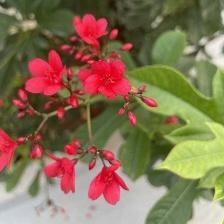jatropha: (25, 52, 72, 100)
